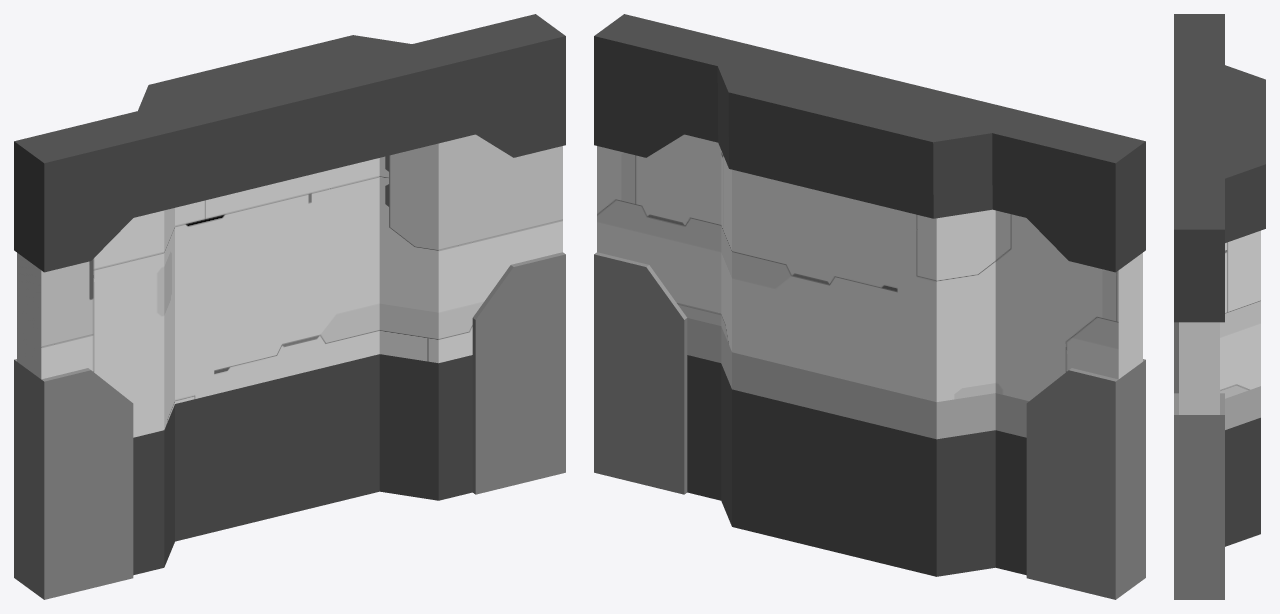
The model's file is SM_Wall_5x3_2.fbx.
3 renders of one model, left to right at view 1: azimuth 30°, elevation 25°; view 2: azimuth 150°, elevation 25°; view 3: azimuth 270°, elevation 25°, orthographic. The views are drawn at different scales.
Parts seen in each view (by area): view 1: SM_Wall_5x3_B; view 2: SM_Wall_5x3_B; view 3: SM_Wall_5x3_B.
Boxes of the visible parts, <box> form: SM_Wall_5x3_B: <box>14,14,565,599</box>; SM_Wall_5x3_B: <box>594,14,1145,599</box>; SM_Wall_5x3_B: <box>1174,14,1265,599</box>.
Bounding box in the file's own units: 500 × 400 × 90.
